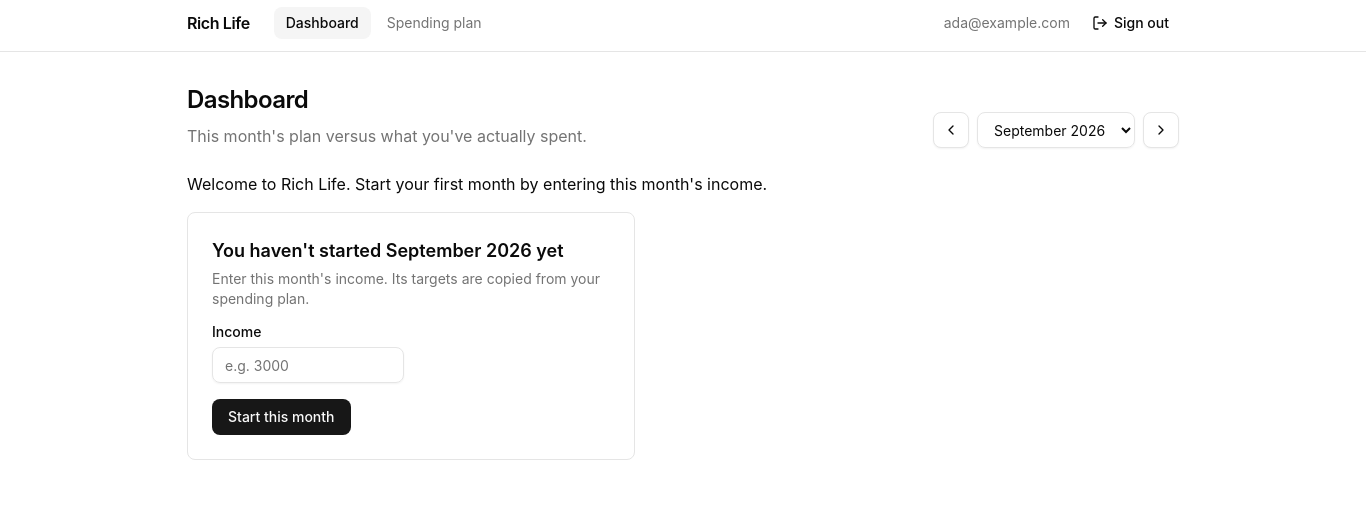
Test: DashboardPage › does not start the month with a negative income
The image size is (1366, 525).
Step 1. Type "-100" into the field labelled "Income" → (308, 365), box top-left (212, 347), bottom-right (404, 383)
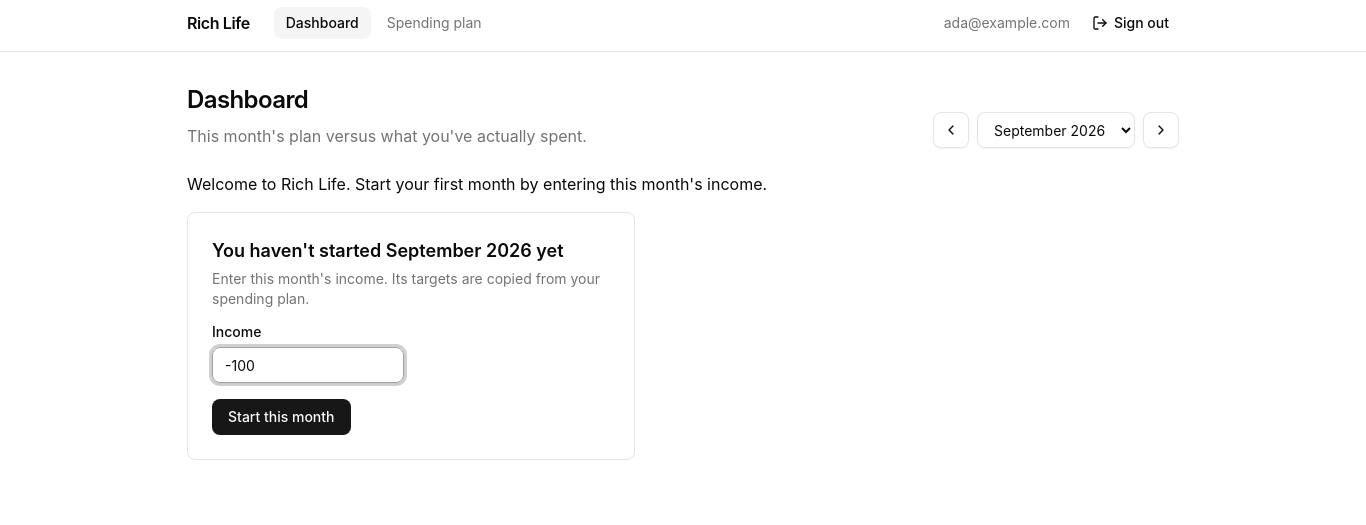
Step 2. Click the button "Start this month" → (281, 417), box top-left (212, 399), bottom-right (350, 435)
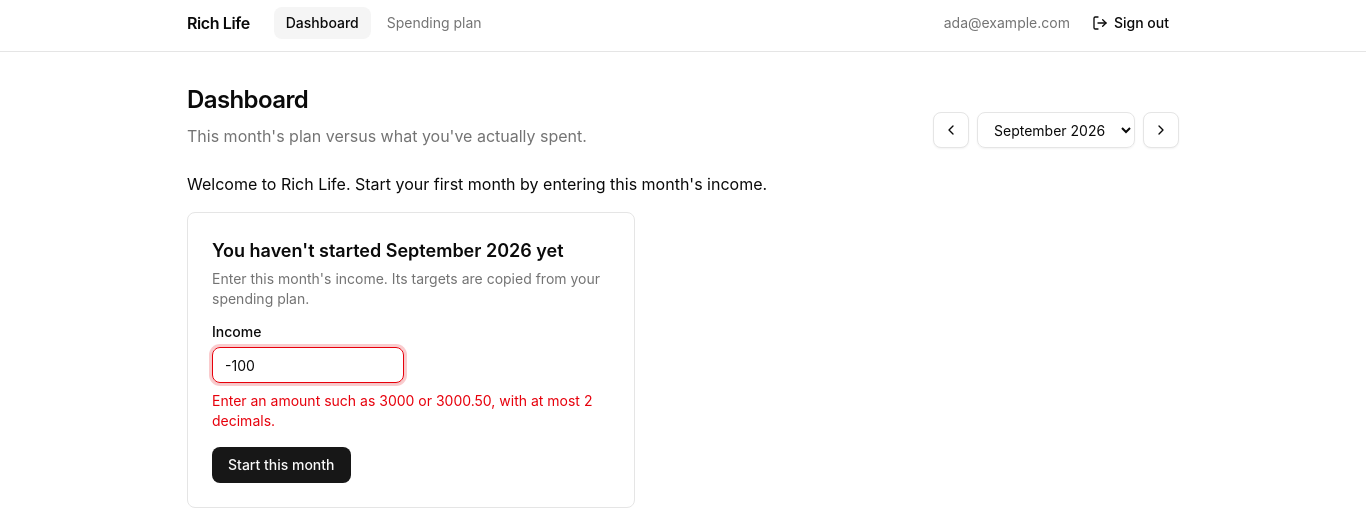
Now the text "Enter an amount such as 3000 or 3000.50, with at most 2 decimals." is shown, box top-left (212, 391), bottom-right (610, 431)
